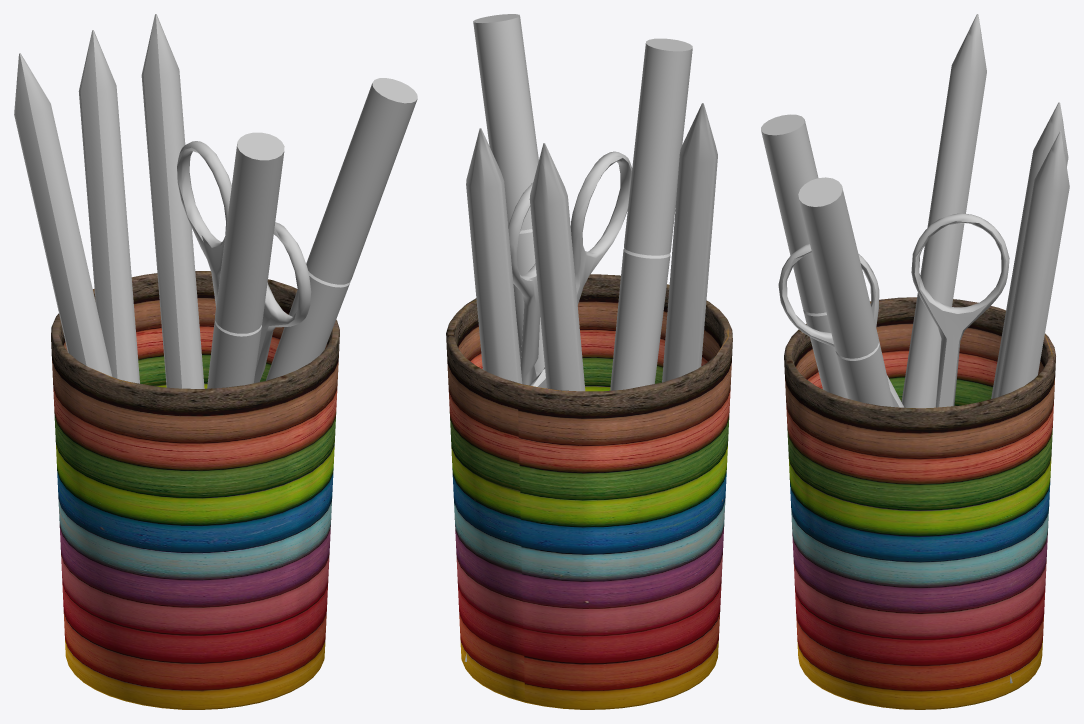
Rendered from Pen Holder.fbx.
The picture shows the model from 3 angles, left to right: view 1: azimuth 30°, elevation 25°; view 2: azimuth 150°, elevation 25°; view 3: azimuth 270°, elevation 25°; orthographic projection. The views are drawn at different scales.
Visible parts, largest first — view 1: Pen Holder; view 2: Pen Holder; view 3: Pen Holder.
Boxes of the visible parts, x1,y1,x2,y2 form: Pen Holder: (14, 14, 417, 709); Pen Holder: (446, 14, 732, 709); Pen Holder: (761, 14, 1069, 709).
Size of the model in its own units: 10.47 by 19.24 by 9.3.
